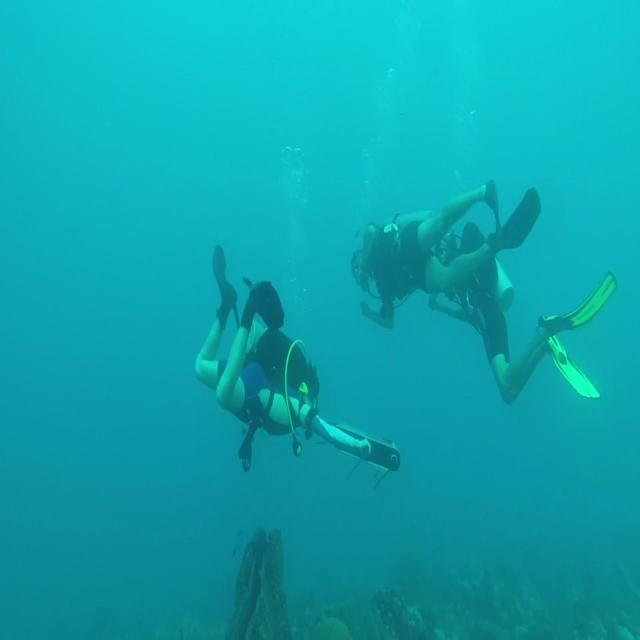human: (194, 243, 400, 479), (427, 180, 617, 406), (346, 177, 548, 352)
